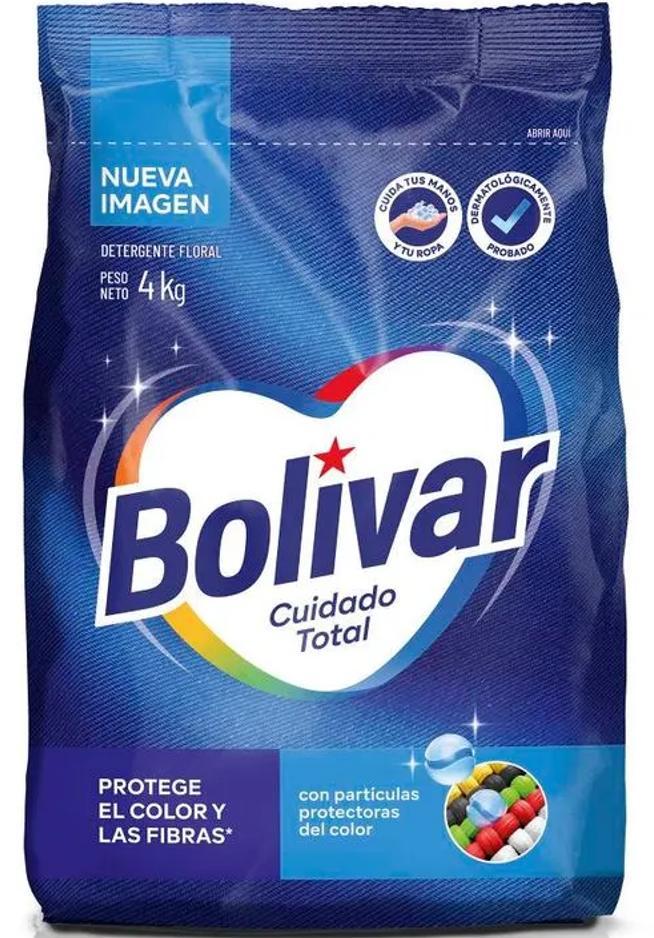brand: (59, 394, 579, 637)
extra_detail: (264, 579, 409, 659)
net_weight: (134, 266, 197, 307)
